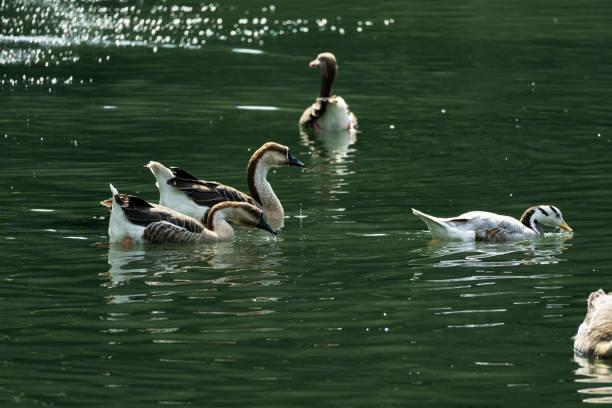Canadian-Goose: (148, 141, 290, 226), (103, 185, 263, 254), (409, 203, 577, 249), (299, 50, 358, 138)
